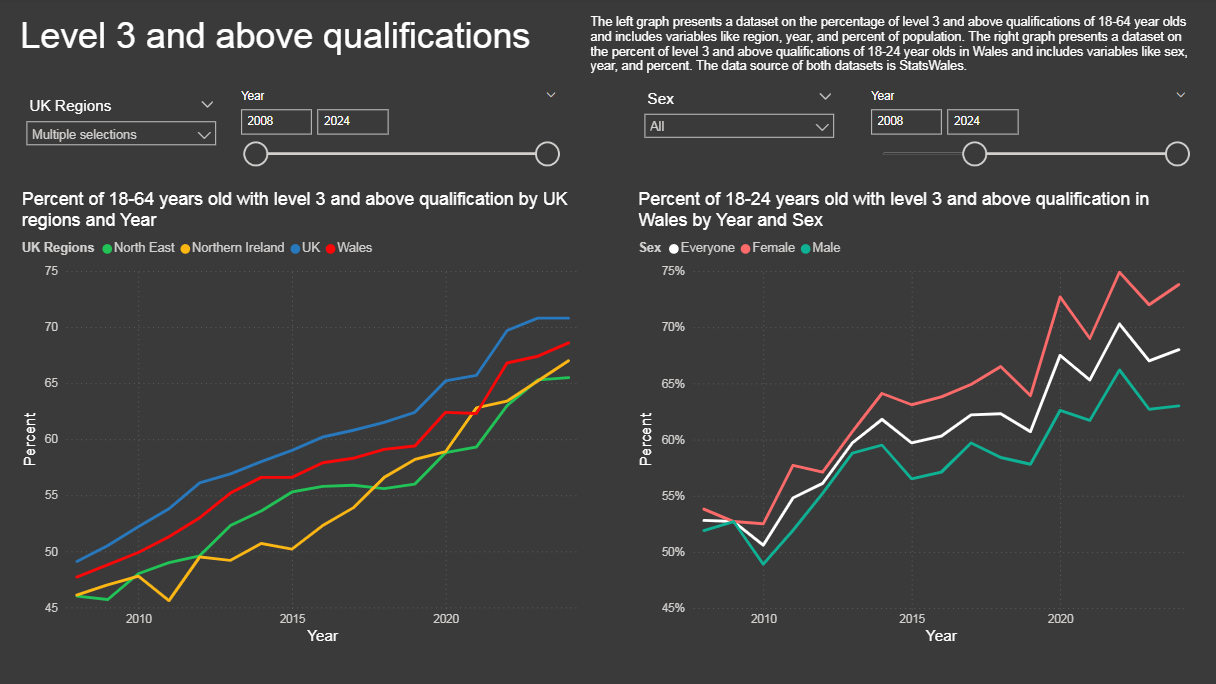

The dashboard page shown, as its layout file describes it:
{"tool":"powerbi","page":{"name":"Page 6 ","canvas":[1280,720],"ordinal":5},"visuals":[{"type":"lineChart","title":"Percent of 18-64 years old with level 3 and above qualification by UK regions and Year","fields":{"Category":["by uk regions.Year"],"Y":["Sum(by uk regions.Percent)"],"Series":["by uk regions.Regions"]},"box":[24.6,202.2,593.4,478.1],"z":0},{"type":"slicer","fields":{"Values":["by uk regions.Regions"]},"box":[24.6,100.2,217.3,86.9],"z":1000},{"type":"textbox","box":[23.9,14.3,591.7,58.9],"z":2000},{"type":"slicer","fields":{"Values":["level 3+ by uk regions.Year"]},"box":[245.7,92.6,353.4,100.2],"z":3000},{"type":"textbox","box":[617.2,14.3,637.8,77.9],"z":5000},{"type":"lineChart","title":"Percent of 18-24 years old with level 3 and above qualification in Wales by Year and Sex","fields":{"Category":["level3+ 18-24 years old in wales.Year"],"Series":["level3+ 18-24 years old in wales.Sex"],"Y":["Sum(level3+ 18-24 years old in wales.Percent)"]},"box":[668.1,202,586.9,478.8],"z":6000},{"type":"slicer","fields":{"Values":["level3+ 18-24 years old in wales.Sex"]},"box":[669,92.6,217.3,75.6],"z":7000},{"type":"slicer","fields":{"Values":["level3+ 18-24 years old in wales.Year"]},"box":[901.9,92.3,353.1,95.4],"z":8000}]}

Visuals, with their boxes in screenshot pixels (x1, y1, x2, y2), scaled from the page's 1280x720 canvas onto the 1216x684 screenshot:
"Percent of 18-64 years old with level 3 and above qualification by UK regions and Year" lineChart: (23,192,587,646)
slicer - by uk regions.Regions: (23,95,230,178)
textbox: (23,14,585,70)
slicer - level 3+ by uk regions.Year: (233,88,569,183)
textbox: (586,14,1192,88)
"Percent of 18-24 years old with level 3 and above qualification in Wales by Year and Sex" lineChart: (635,192,1192,647)
slicer - level3+ 18-24 years old in wales.Sex: (636,88,842,160)
slicer - level3+ 18-24 years old in wales.Year: (857,88,1192,178)
